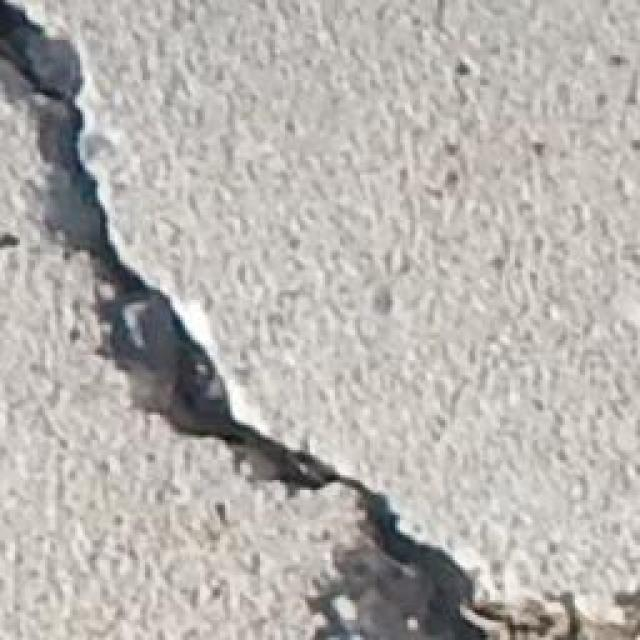concrete-crack: (0, 0, 640, 640)
